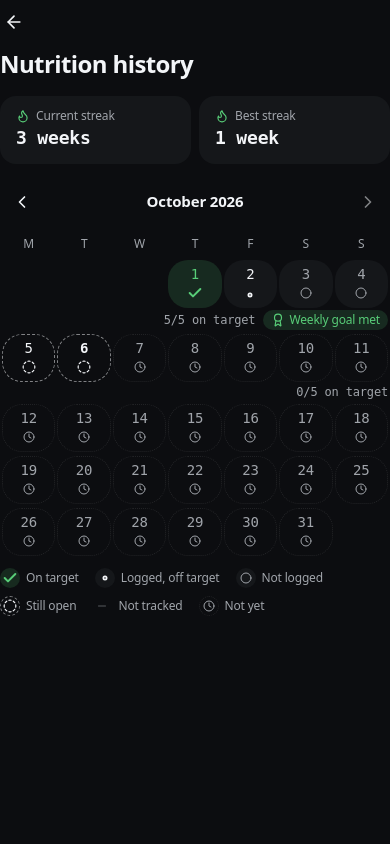
Test: HistoryScreen › opens the day sheet when a day is tapped
Click the button named "1 October: On target": point(195, 284) [168,260,222,308]
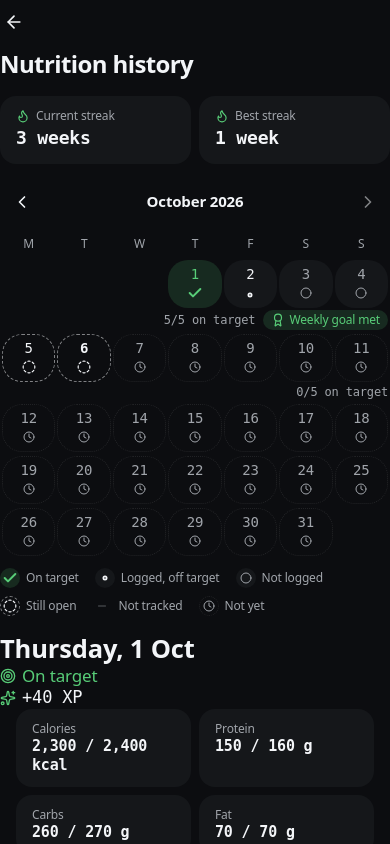
Check: the heading "Thursday, 1 Oct" is shown, box [0,631,195,665]
Check: the text "+40 XP" is shown, box [22,687,82,709]
